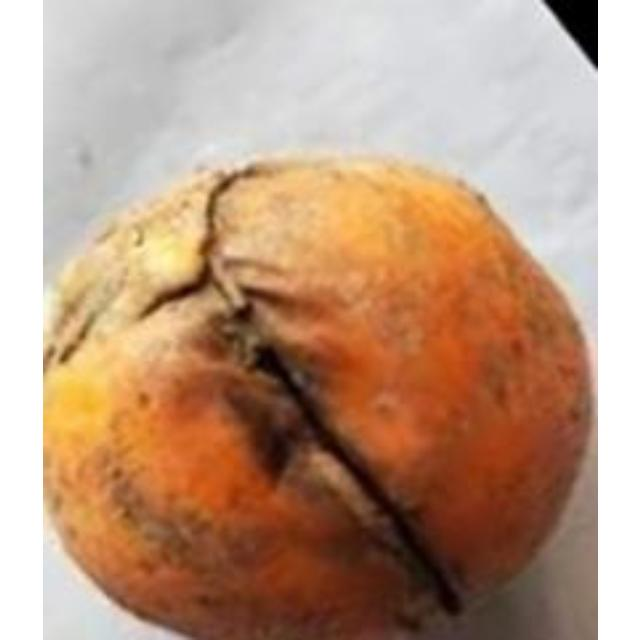damaged: (42, 154, 589, 637)
